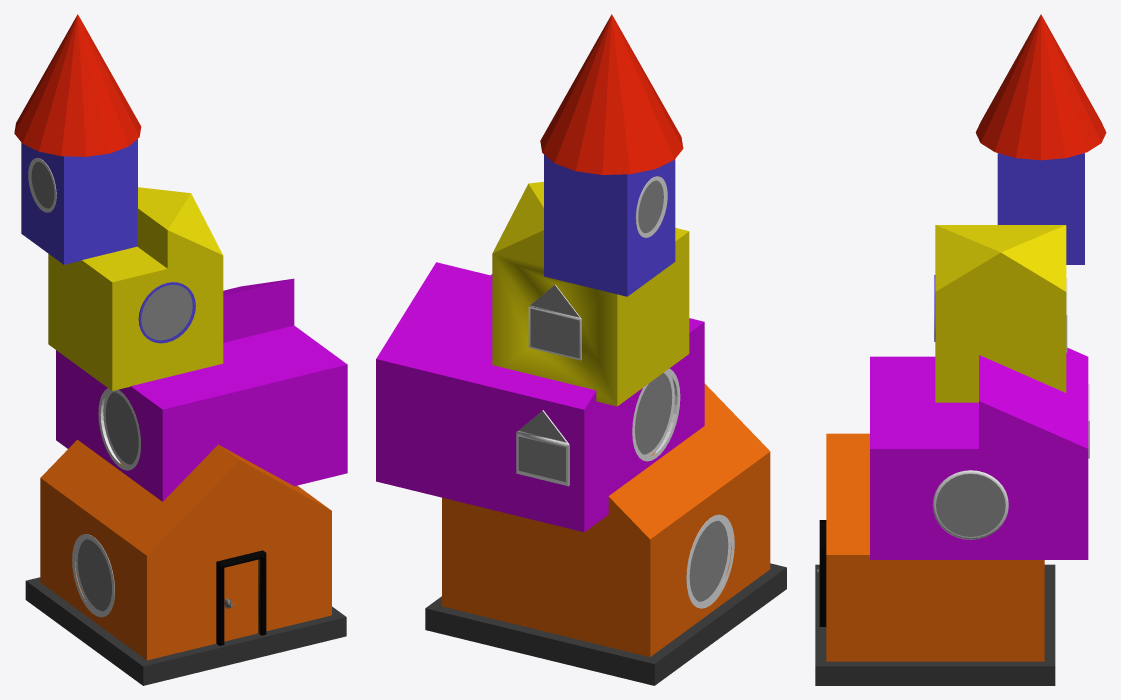
The model's file is casita2.fbx.
The picture shows the model from 3 angles, left to right: view 1: azimuth 30°, elevation 25°; view 2: azimuth 150°, elevation 25°; view 3: azimuth 270°, elevation 25°; orthographic projection. The views are drawn at different scales.
Parts seen in each view (by area): view 1: Primer piso, Segundo piso.001, Tercer piso.001, Torre.001, Cone, Base, cristal_3P_C, Puerta, cristal_1p, cristal_2p_c_2, ventana_2p_c, ventana_1p (+2 smaller); view 2: Primer piso, Segundo piso.001, Tercer piso.001, Torre.001, Cone, Base, cristal_3P_U, crsital_2P_U, cristal_1p, cristal_2p_c_2, ventana_1p, ventana_2p_c (+2 smaller); view 3: Segundo piso.001, Primer piso, Tercer piso.001, Cone, Base, Torre.001, cristal_2P_C, Puerta, ventana_2p_C.
Boxes of the visible parts, x1,y1,x2,y2 form: Primer piso: [40, 439, 331, 660]; Segundo piso.001: [56, 278, 347, 501]; Tercer piso.001: [48, 187, 223, 390]; Torre.001: [21, 139, 137, 264]; Cone: [14, 14, 141, 156]; Base: [25, 577, 346, 685]; cristal_3P_C: [141, 284, 192, 340]; Puerta: [216, 550, 266, 645]; cristal_1p: [77, 539, 111, 611]; cristal_2p_c_2: [105, 392, 138, 464]; ventana_2p_c: [98, 388, 140, 470]; ventana_1p: [72, 534, 114, 617]; Primer piso: [442, 383, 770, 656]; Segundo piso.001: [376, 262, 704, 532]; Tercer piso.001: [492, 181, 689, 406]; Torre.001: [544, 154, 675, 296]; Cone: [540, 14, 683, 174]; Base: [425, 563, 786, 685]; cristal_3P_U: [530, 285, 579, 358]; crsital_2P_U: [518, 411, 565, 481]; cristal_1p: [689, 520, 728, 601]; cristal_2p_c_2: [635, 373, 672, 454]; ventana_1p: [686, 514, 734, 608]; ventana_2p_c: [632, 368, 680, 461]; Segundo piso.001: [870, 347, 1088, 559]; Primer piso: [826, 433, 1044, 661]; Tercer piso.001: [935, 225, 1066, 402]; Cone: [975, 14, 1106, 160]; Base: [815, 564, 1055, 685]; Torre.001: [997, 153, 1084, 264]; cristal_2P_C: [936, 474, 1005, 536]; Puerta: [817, 520, 826, 626]; ventana_2p_C: [932, 470, 1008, 539].
Size of the model in its own units: 657 by 1499 by 667.
